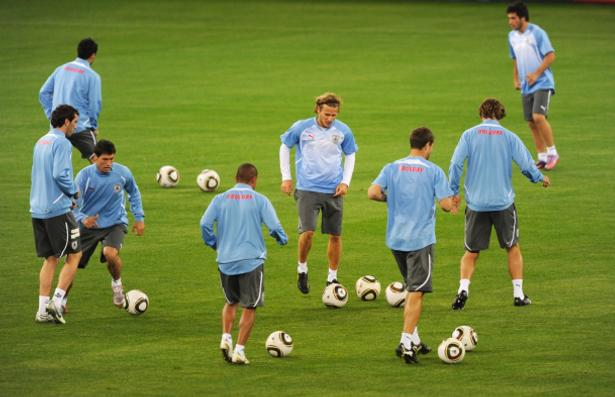ballon_football: (265, 329, 294, 359), (437, 337, 466, 365), (322, 282, 349, 311), (385, 279, 412, 308), (452, 324, 479, 352), (355, 274, 381, 302), (123, 288, 148, 317), (196, 168, 221, 193), (156, 164, 179, 189)
